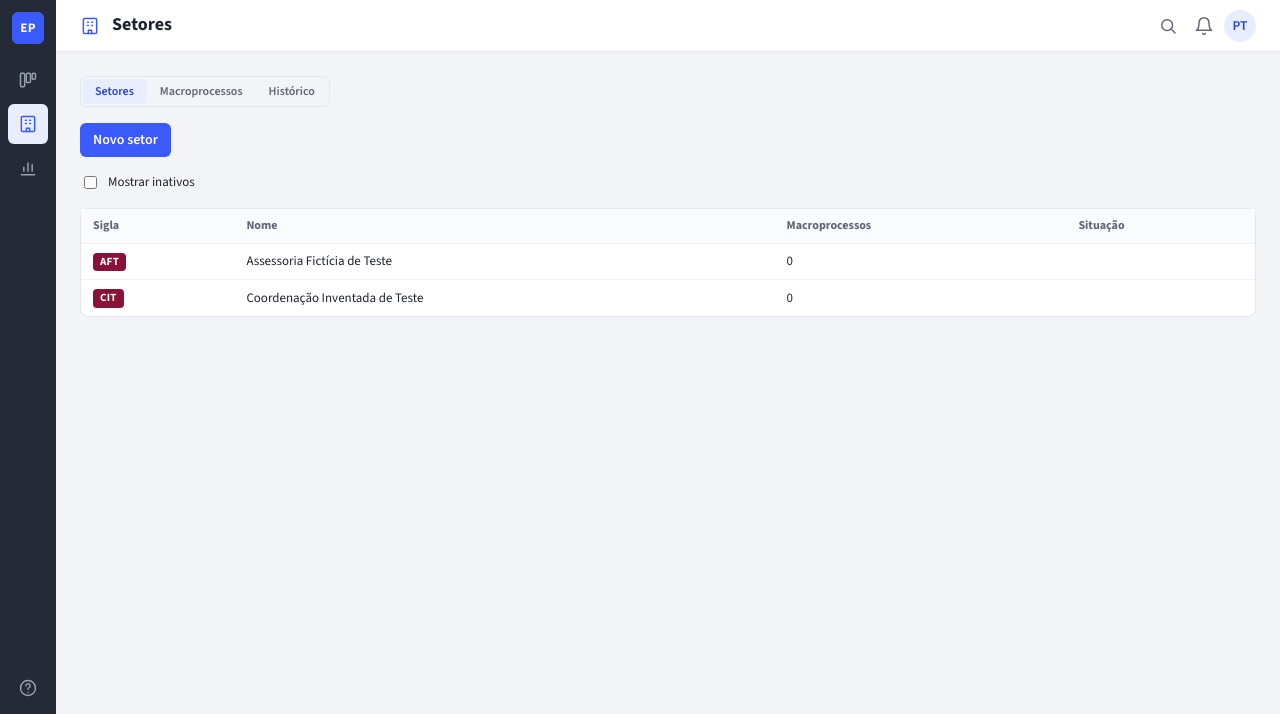
Test: Reativar grava na hora e o botão volta a ser Desativar
This screenshot has width=1280, height=714.
Step 1. Click the checkbox labelled "Mostrar inativos" → [90, 183], box [84, 176, 97, 189]
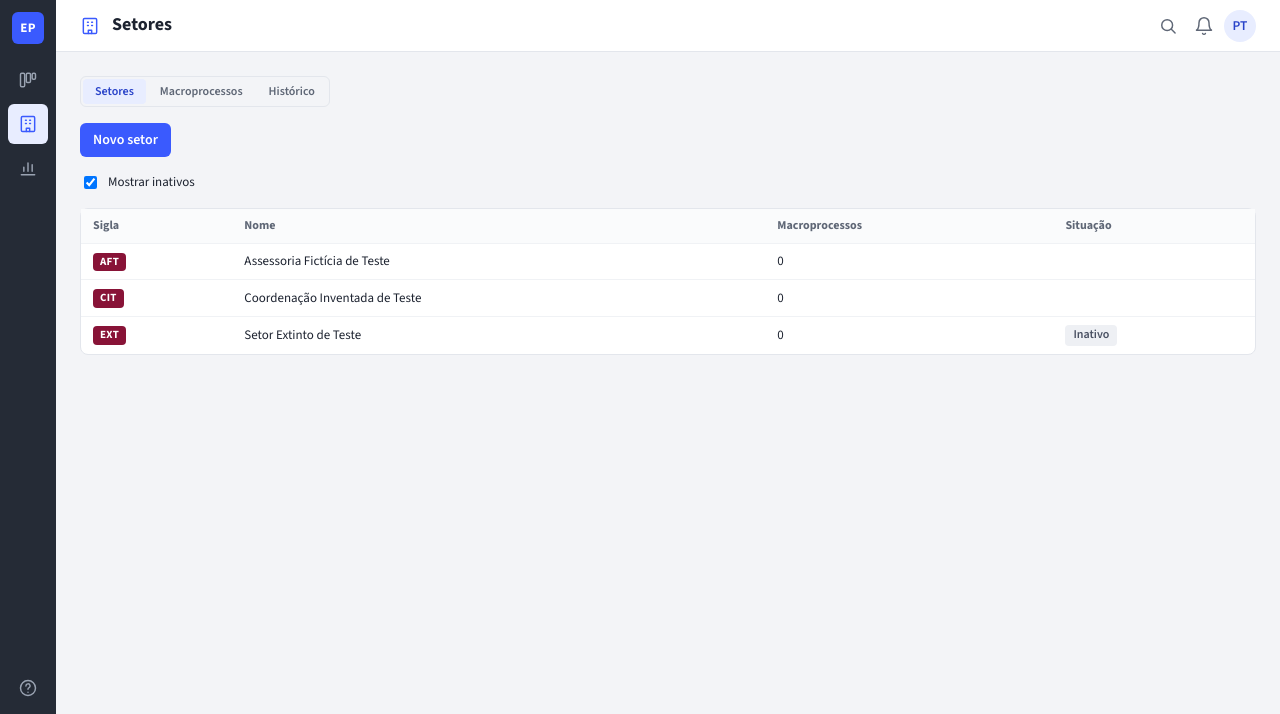
Step 2. Click the cell "EXT" → [157, 335], box [81, 317, 232, 354]
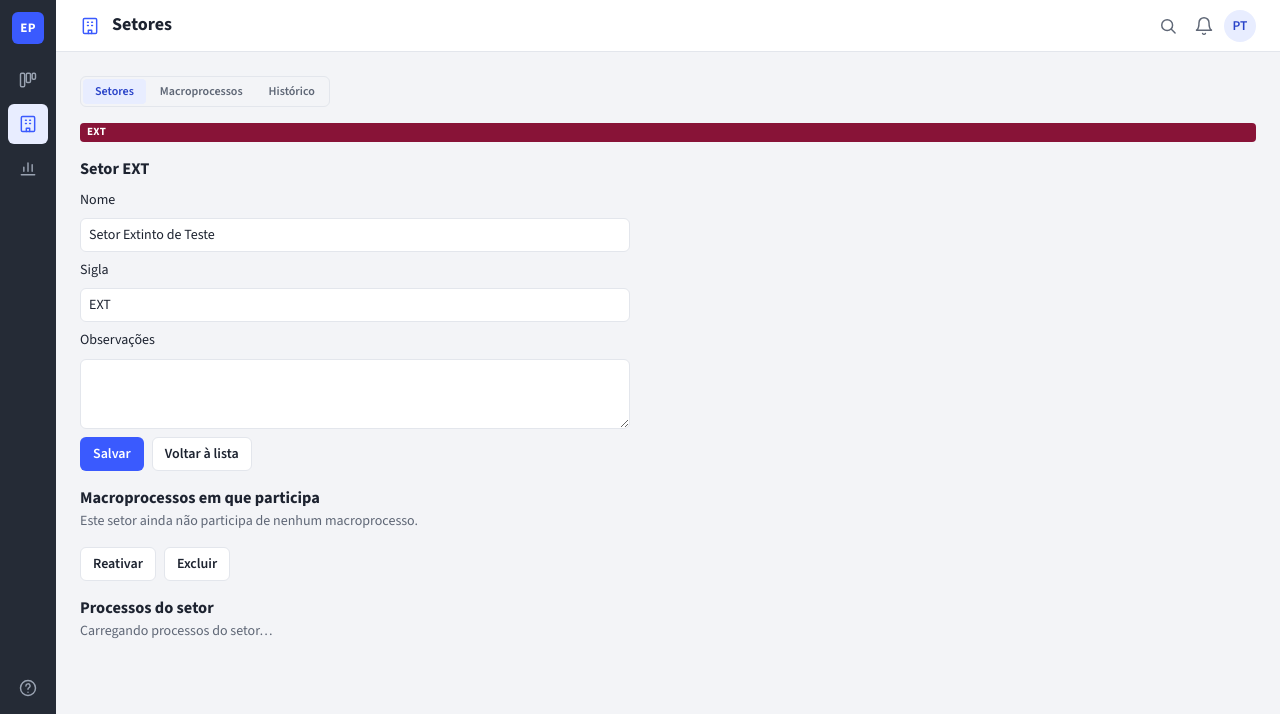
Step 3. Click the button "Reativar" → [118, 564], box [80, 547, 156, 581]
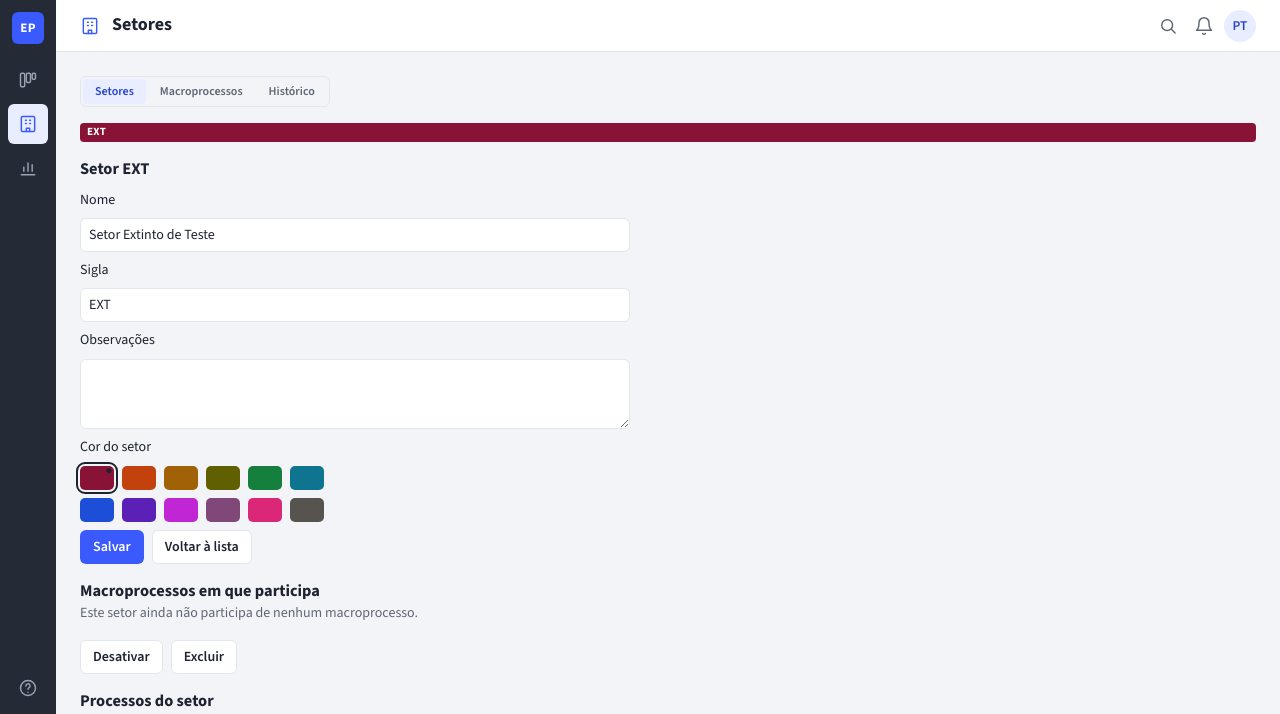
Result: the button "Desativar" is shown at [80, 640, 163, 674]
